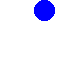circle: (34, 0, 54, 20)
